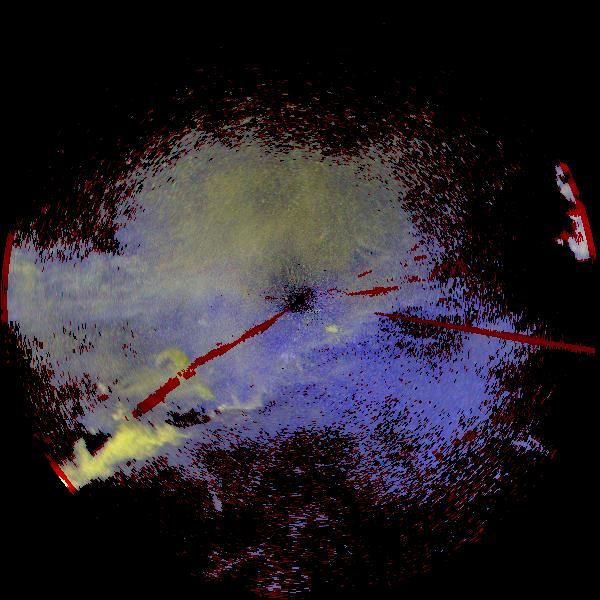roost: (125, 329, 206, 410)
